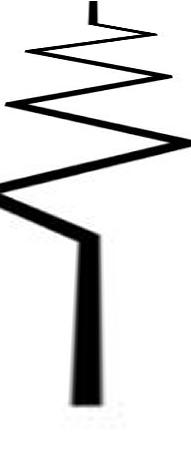resistor: (0, 18, 185, 231)
